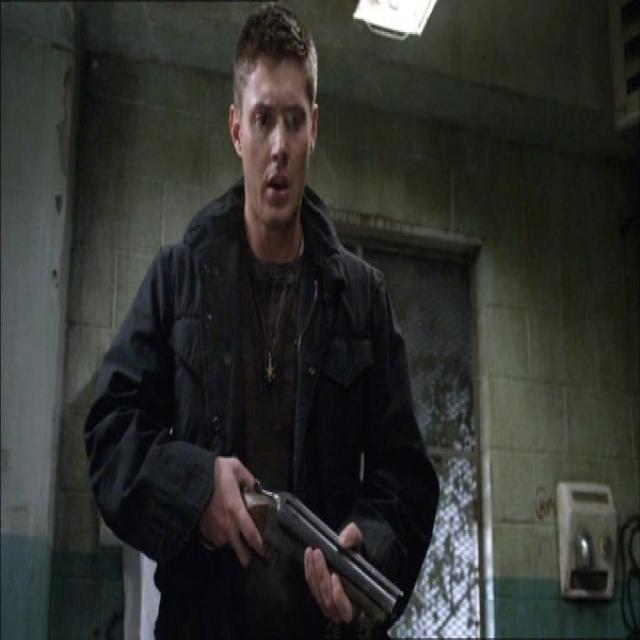rifle: (243, 483, 410, 636)
